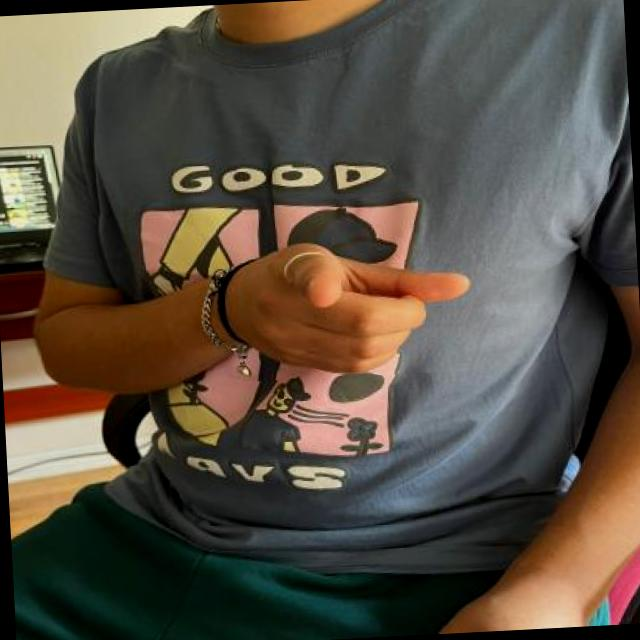X: (207, 220, 486, 383)
